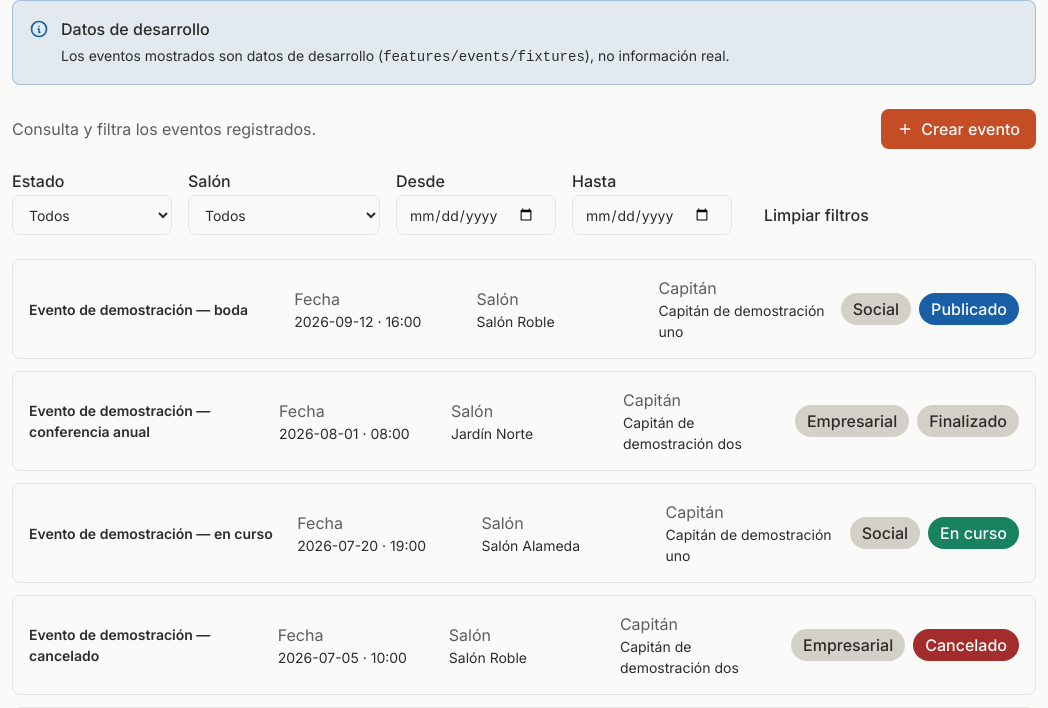
EventsPage › applies filters to the visible list
Select "Cancelado" in the dropdown labelled "Estado" at (92, 215), box 12,195 -> 172,235
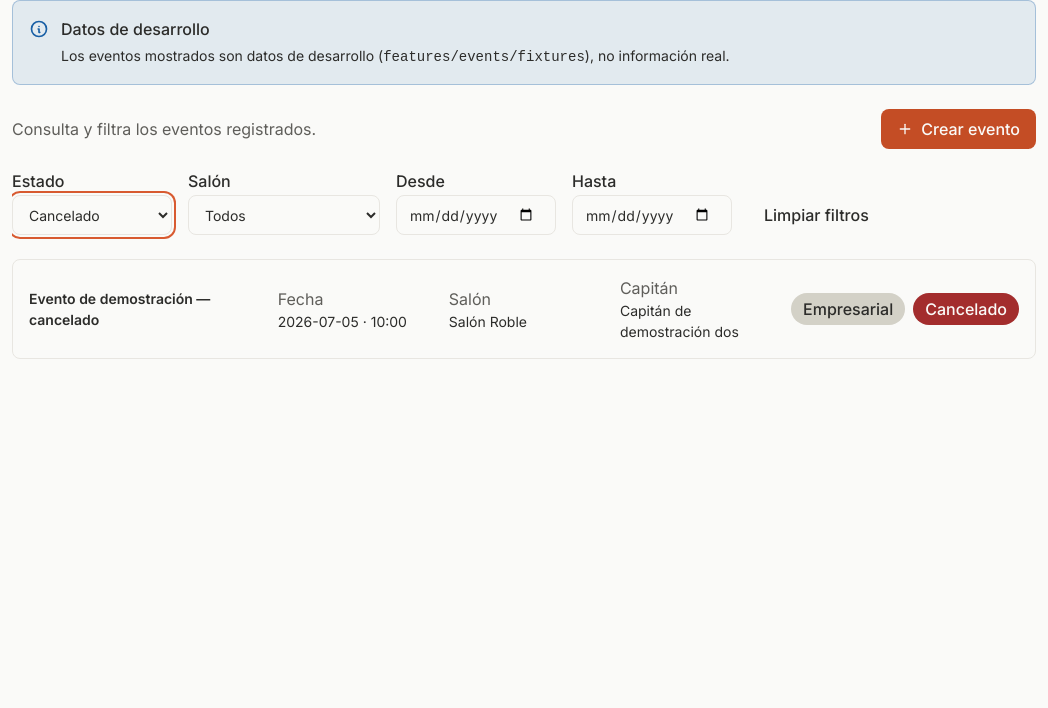
Check: the text "Evento de demostración — cancelado" is shown, box 29,290 -> 210,328
Check: the button "Evento de demostración — boda" is gone
